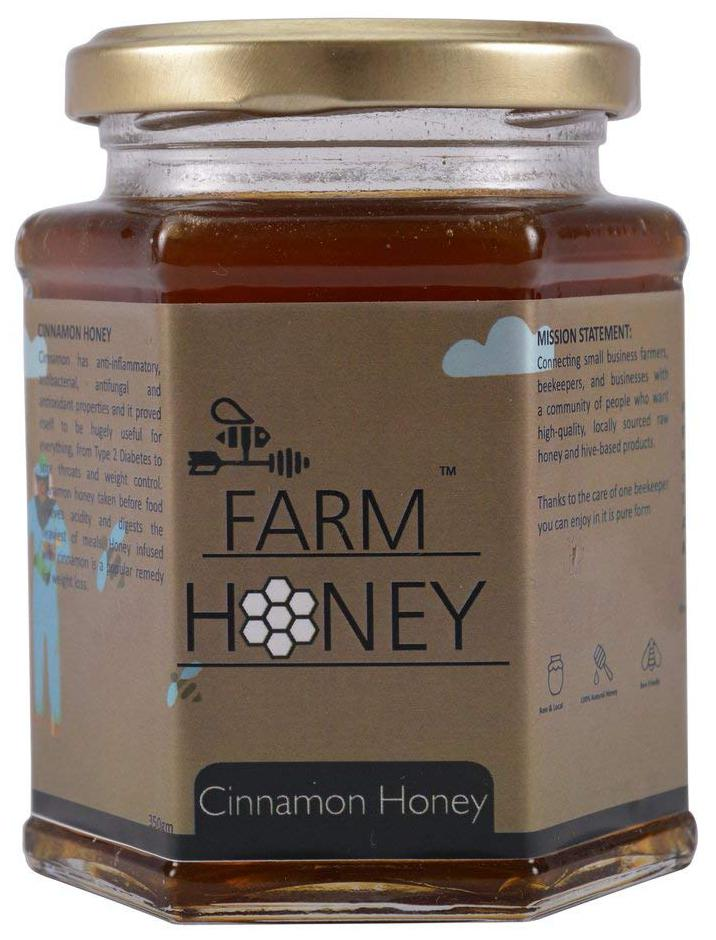JAR: (7, 9, 707, 931)
